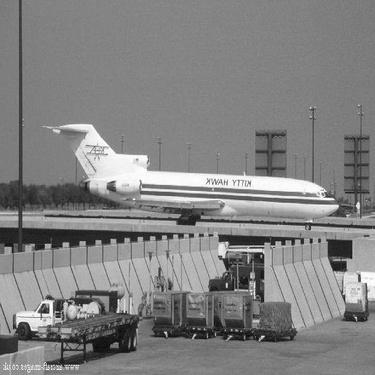airplane: (20, 93, 355, 243)
